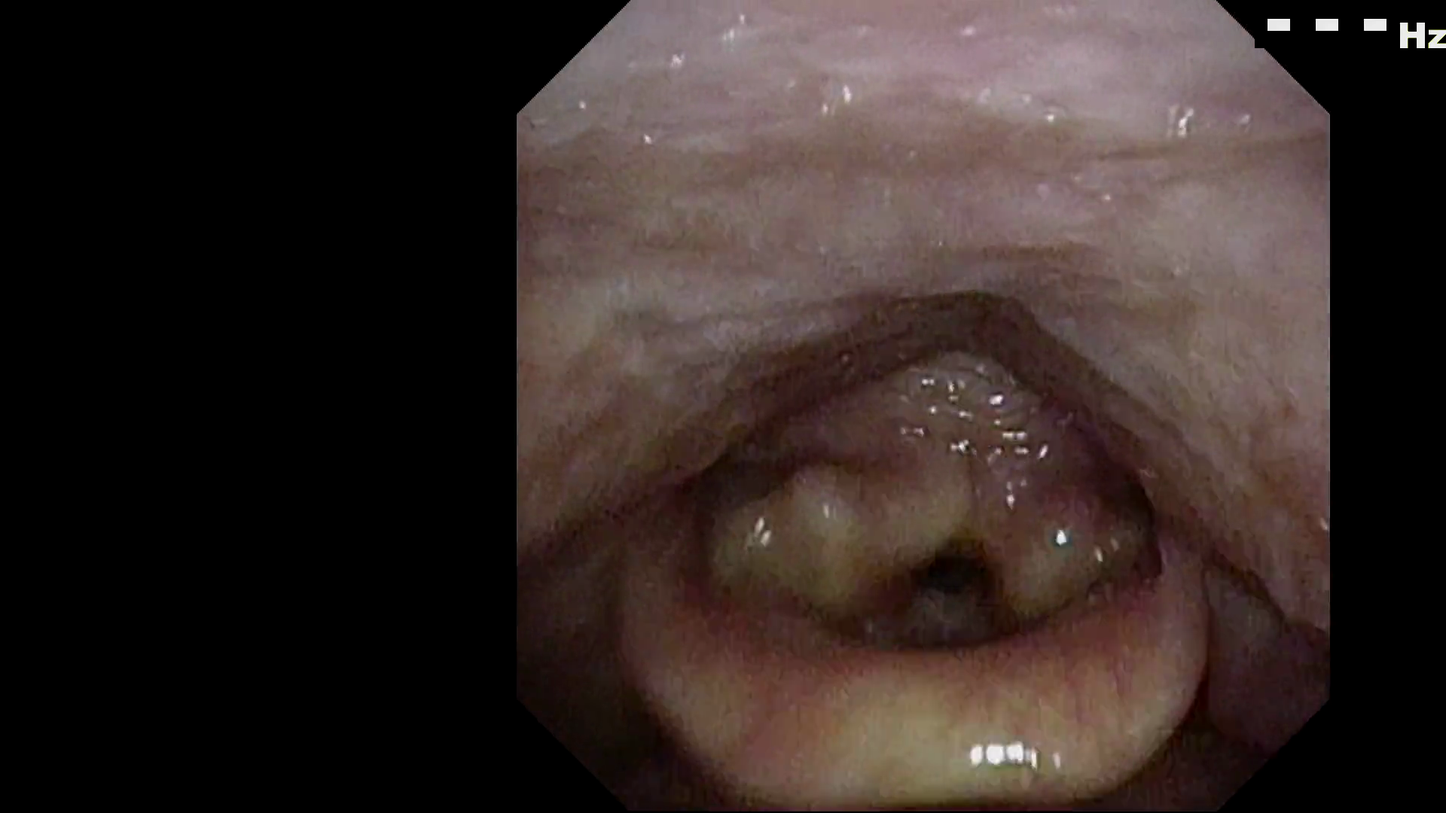epiglottis: (628, 542, 1212, 754)
trachea: (912, 549, 1007, 655)
